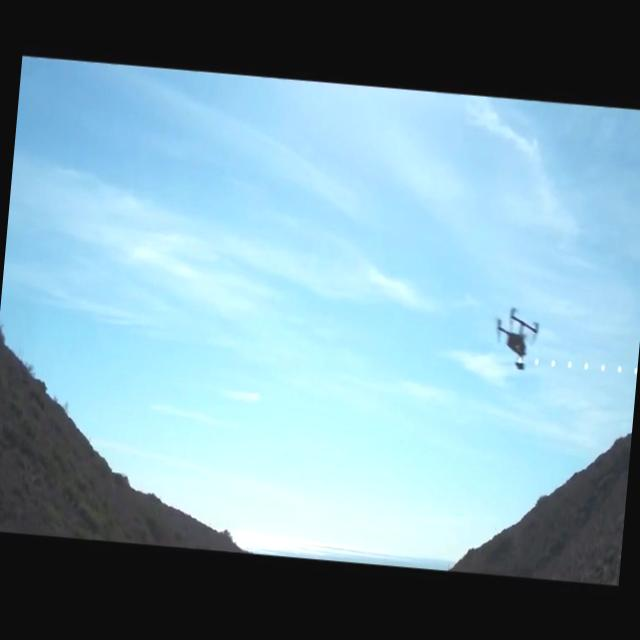drone: (490, 300, 548, 374)
